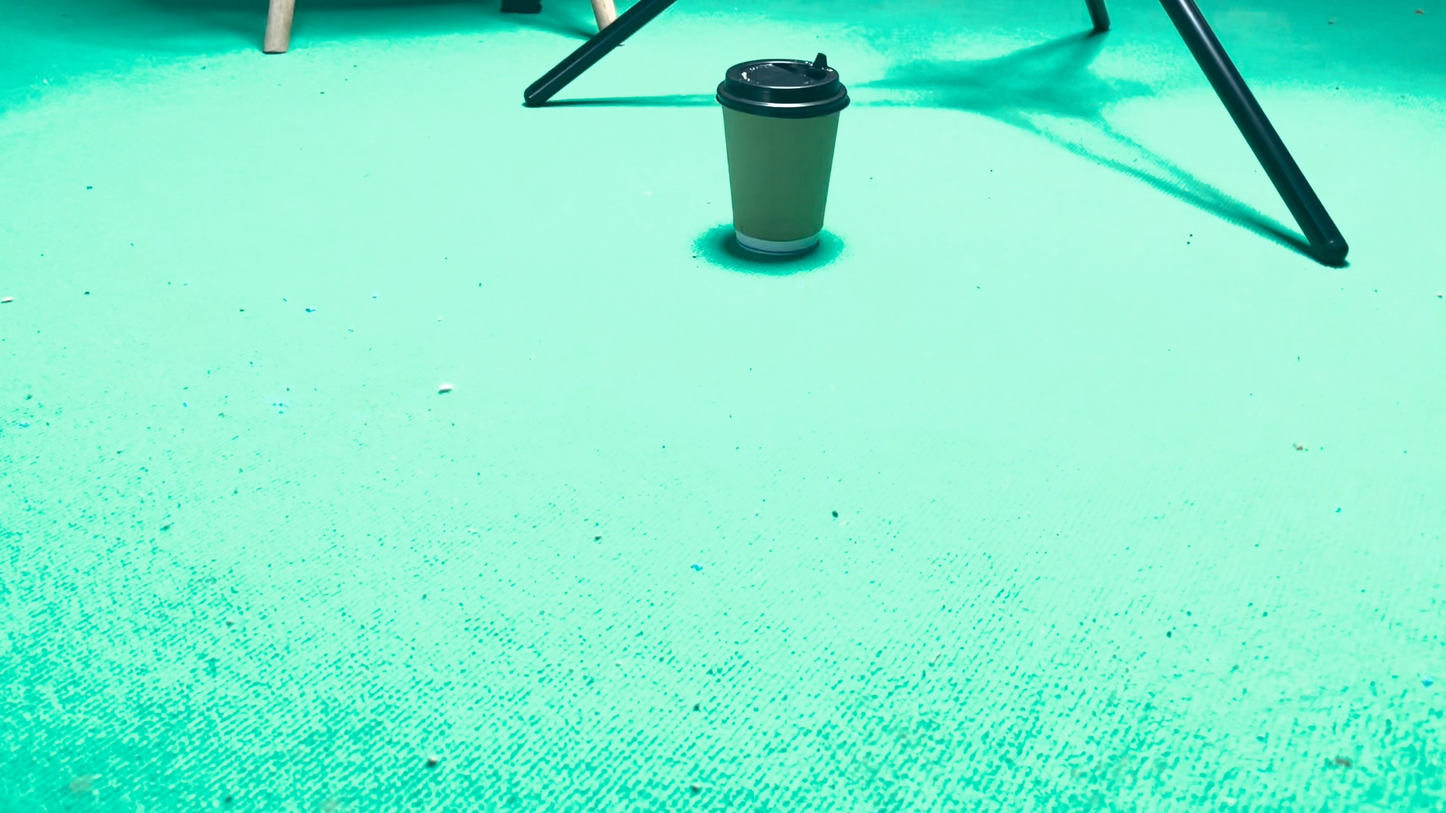cup: (740, 432, 832, 552)
